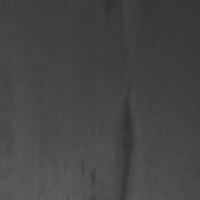inclusion: (107, 79, 136, 198), (75, 156, 99, 190), (102, 1, 122, 35)
